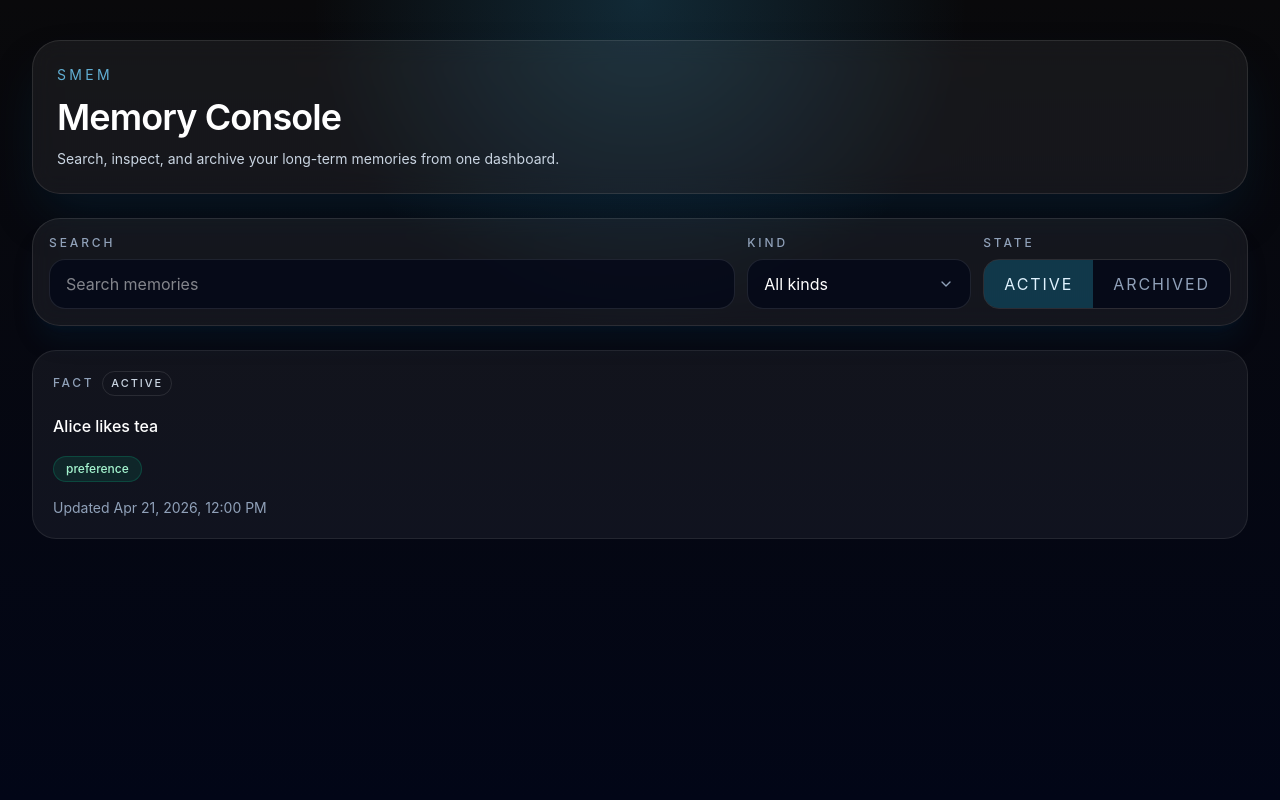
renders a memory card and opens the detail drawer when selected
Check: the text "preference" is shown, box [53,456,142,482]
Step 1. Click the button "Alice likes tea" → (640, 444), box [32,350,1248,539]
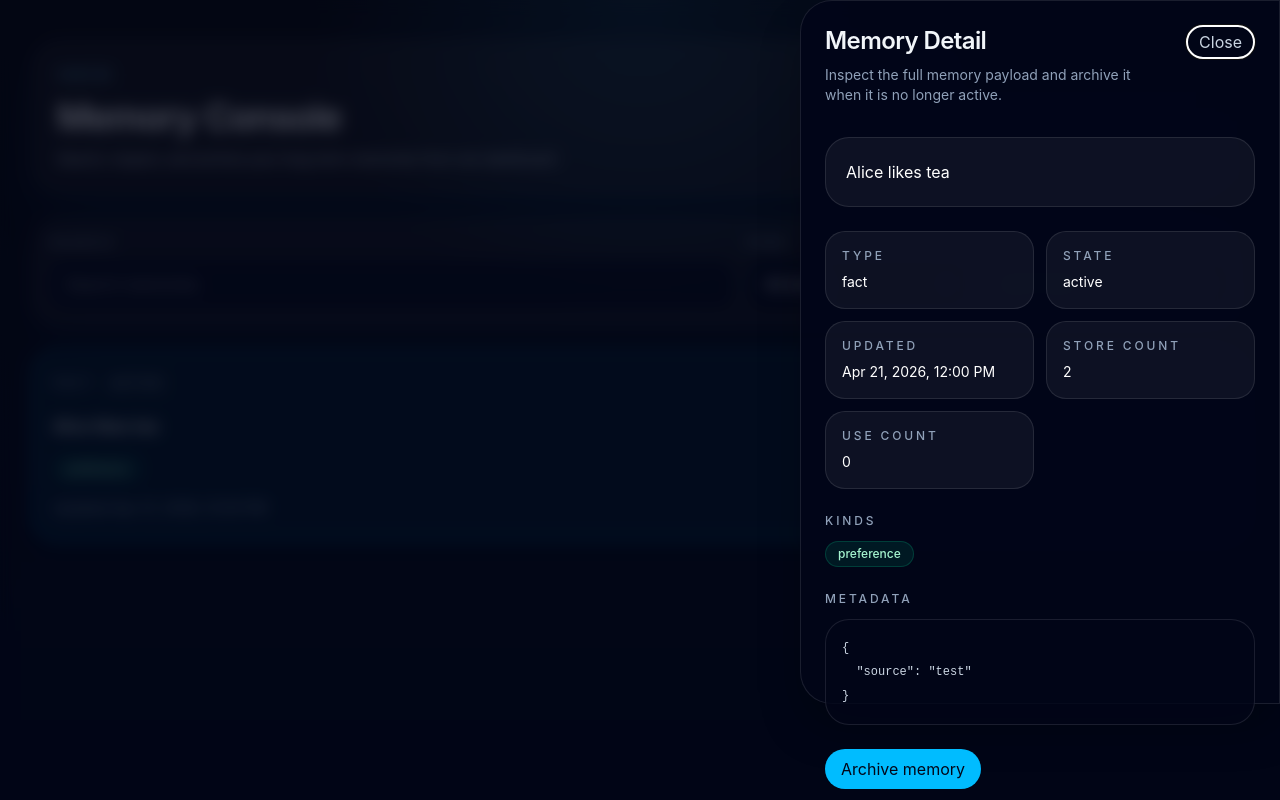
Check: the heading "Memory Detail" is shown, box [825,26,986,55]
